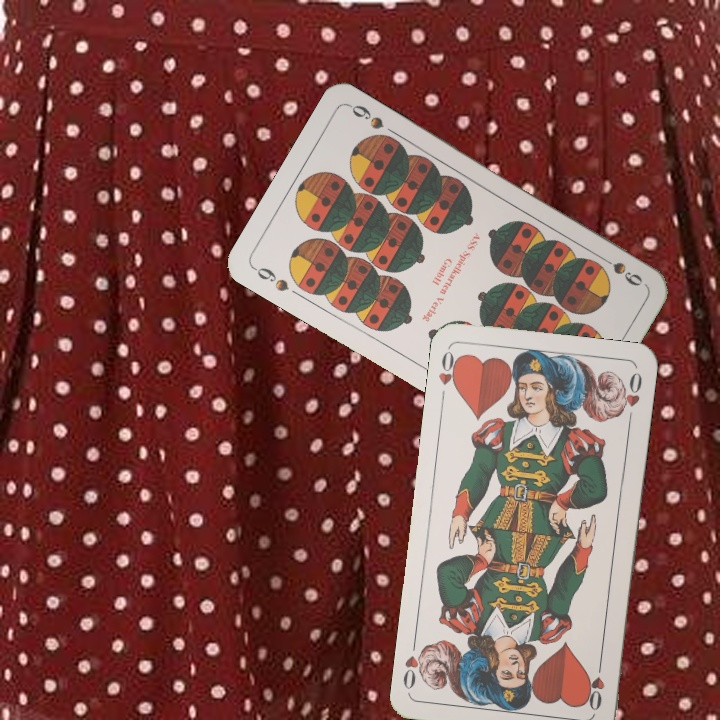HO: (583, 655, 607, 713), (434, 346, 463, 394)
S9: (593, 250, 646, 289), (249, 262, 291, 295)
